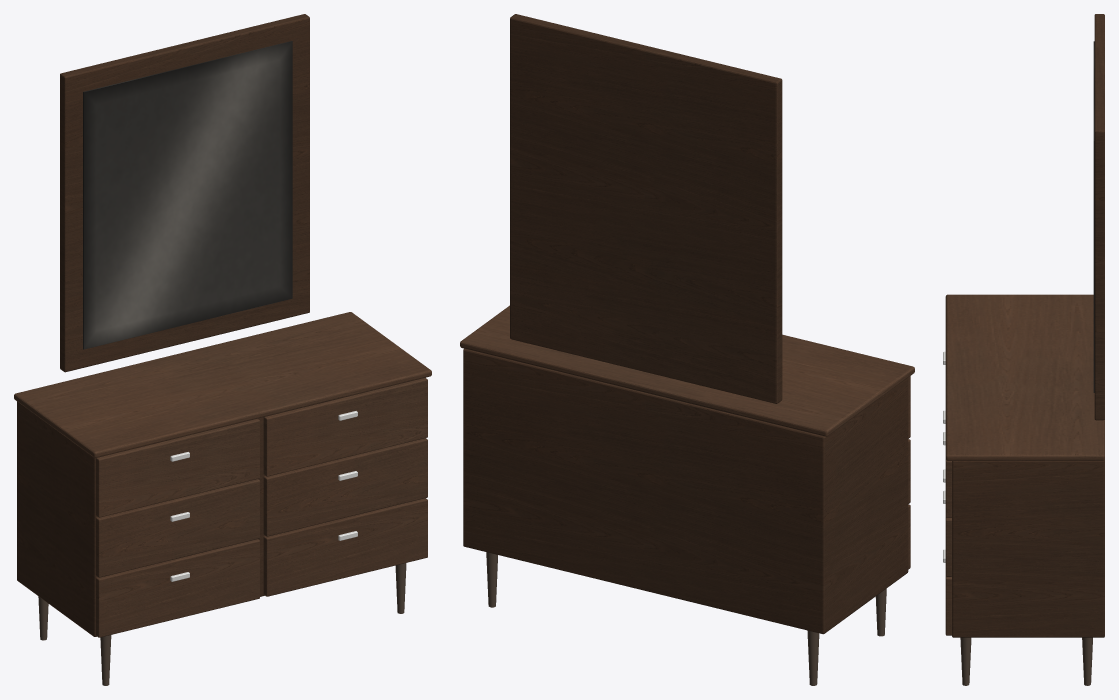
The model's file is dresser.glb.
3 views of the same model, side by side, from view 1: azimuth 30°, elevation 25°; view 2: azimuth 150°, elevation 25°; view 3: azimuth 270°, elevation 25° (orthographic). The views are drawn at different scales.
Visible parts, largest first — view 1: dresser; view 2: dresser; view 3: dresser.
Part boxes in pixels (box(x1,y1,x2,y2)): dresser: box(14, 14, 431, 685); dresser: box(460, 14, 914, 685); dresser: box(943, 14, 1104, 685).
Size of the model in its own units: 1.1 by 1.72 by 0.466.
Materials: 5 (3 with a texture image).
